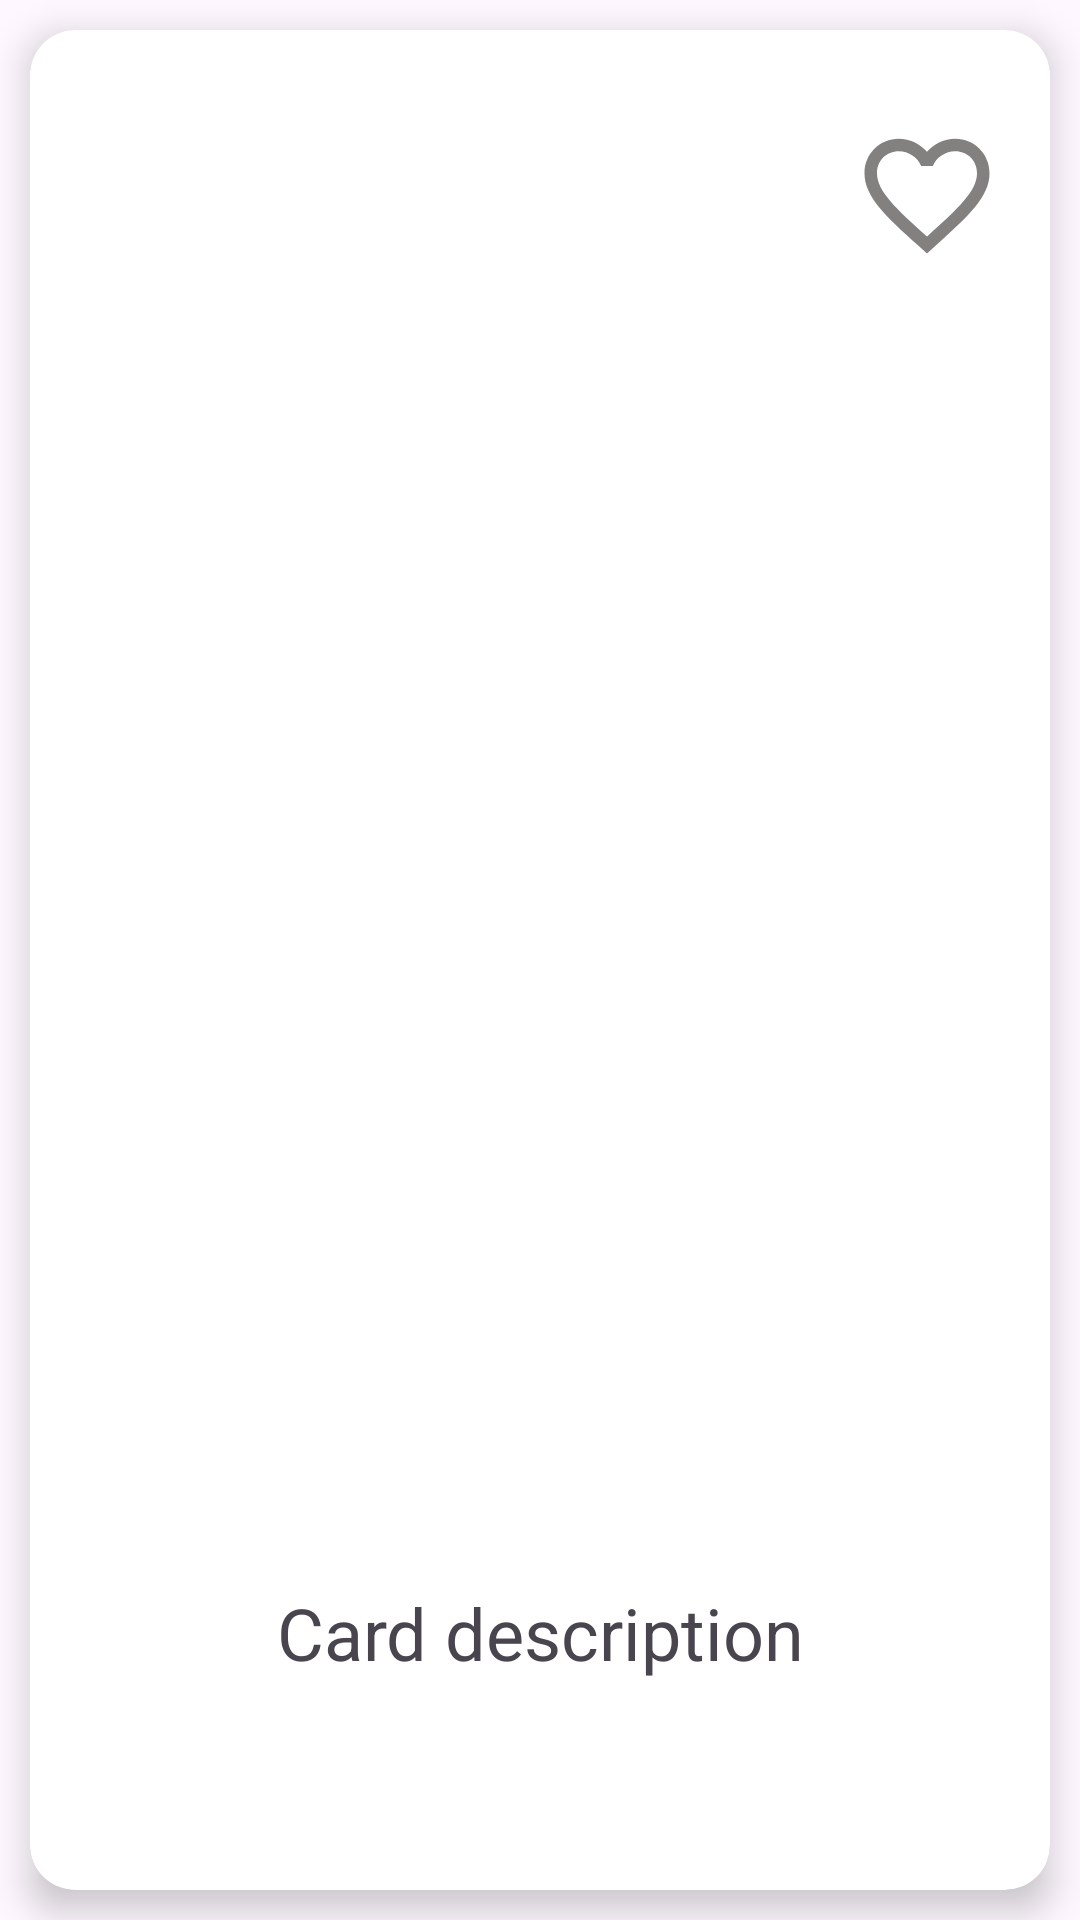

Where icons sit on this 1080x1920 app screen, as bbox(x1, y1, x2, y2):
favourite unchecked: bbox(864, 138, 990, 253)
